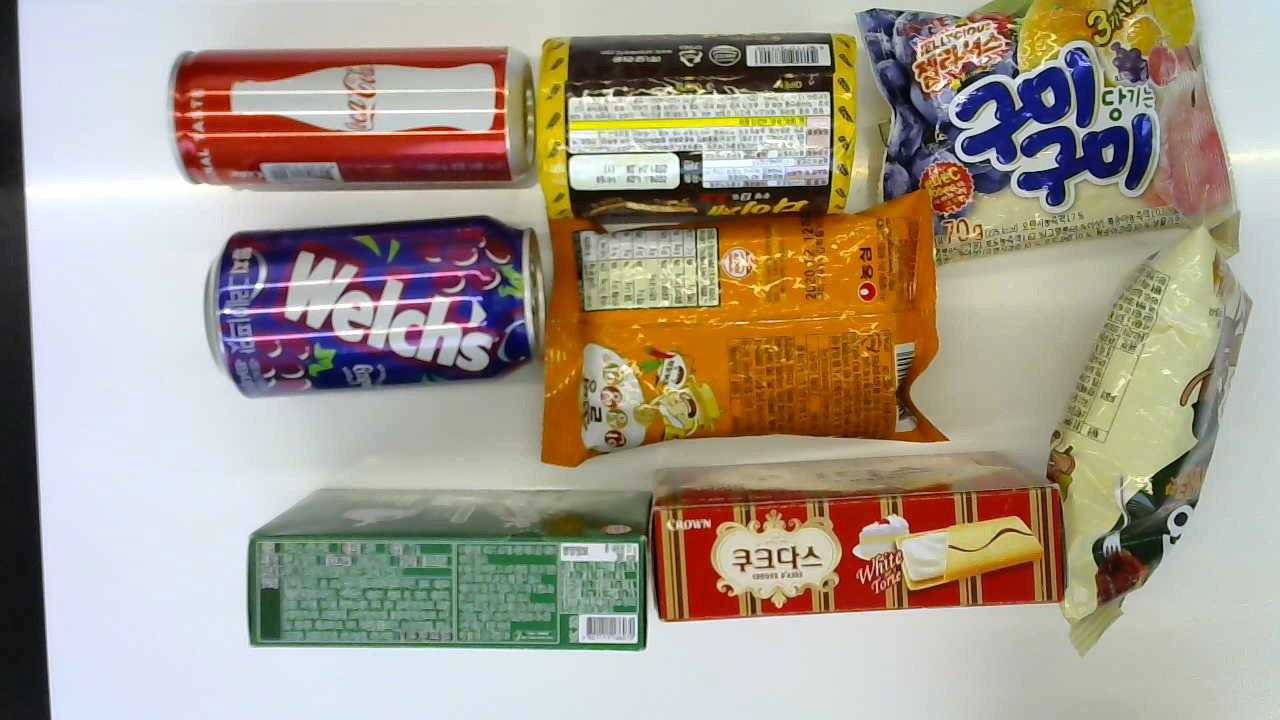coke: (165, 36, 539, 191)
couque_coffee: (239, 474, 664, 655)
diget_choco: (524, 23, 863, 239)
gumi_gumi: (848, 0, 1252, 261)
jjolbyung_noodle: (518, 180, 952, 483)
jjolbyung_ori: (1029, 221, 1268, 658), (651, 434, 1064, 629)
welchs: (194, 205, 560, 414)
